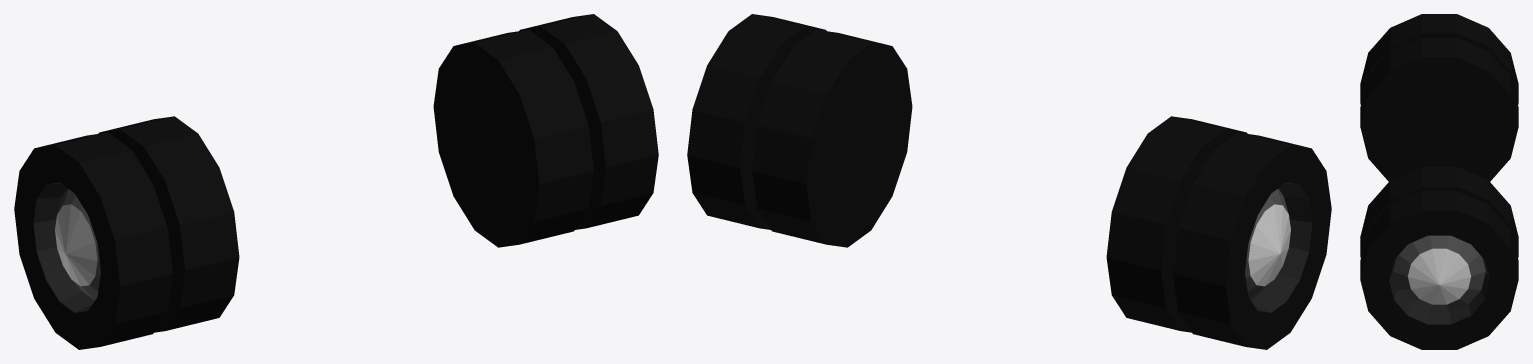
File: WheelAmbulanceBack.fbx
The picture shows the model from 3 angles, left to right: view 1: azimuth 30°, elevation 25°; view 2: azimuth 150°, elevation 25°; view 3: azimuth 270°, elevation 25°; orthographic projection. The views are drawn at different scales.
Parts seen in each view (by area): view 1: WheelAmbulanceBack; view 2: WheelAmbulanceBack; view 3: WheelAmbulanceBack.
Boxes of the visible parts, box(x1,y1,x2,y2) form: WheelAmbulanceBack: box(14, 14, 658, 349); WheelAmbulanceBack: box(687, 14, 1331, 349); WheelAmbulanceBack: box(1360, 14, 1518, 349).
Bounding box in the file's own units: 1.84 × 0.6092 × 0.6249.
